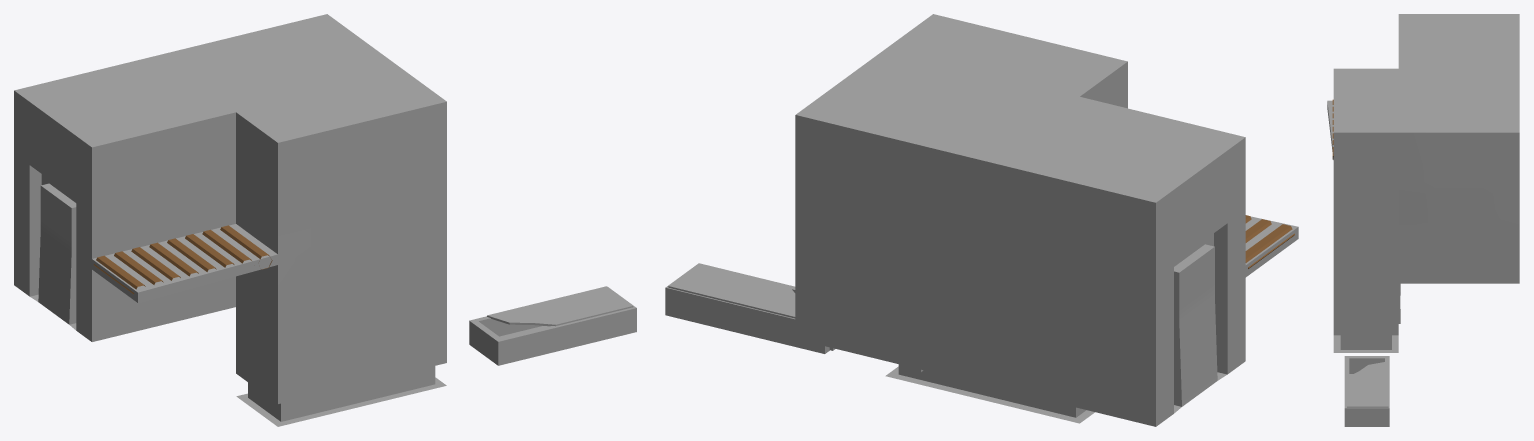
Rendered from TumbaInterior 1.fbx.
3 views of the same model, side by side, from view 1: azimuth 30°, elevation 25°; view 2: azimuth 150°, elevation 25°; view 3: azimuth 270°, elevation 25° (orthographic). The views are drawn at different scales.
Parts seen in each view (by area): view 1: TumbaInterior_TumbaInterior, TumbaMadera; view 2: TumbaInterior_TumbaInterior, TumbaMadera; view 3: TumbaInterior_TumbaInterior, TumbaMadera.
Boxes of the visible parts, left/top/right/bottom form: TumbaInterior_TumbaInterior: left=14, top=14, right=446, bottom=426; TumbaMadera: left=469, top=286, right=636, bottom=365; TumbaInterior_TumbaInterior: left=795, top=14, right=1298, bottom=426; TumbaMadera: left=665, top=263, right=829, bottom=353; TumbaInterior_TumbaInterior: left=1327, top=14, right=1519, bottom=352; TumbaMadera: left=1344, top=356, right=1389, bottom=426.
Size of the model in its own units: 26608 by 14148 by 11188.
